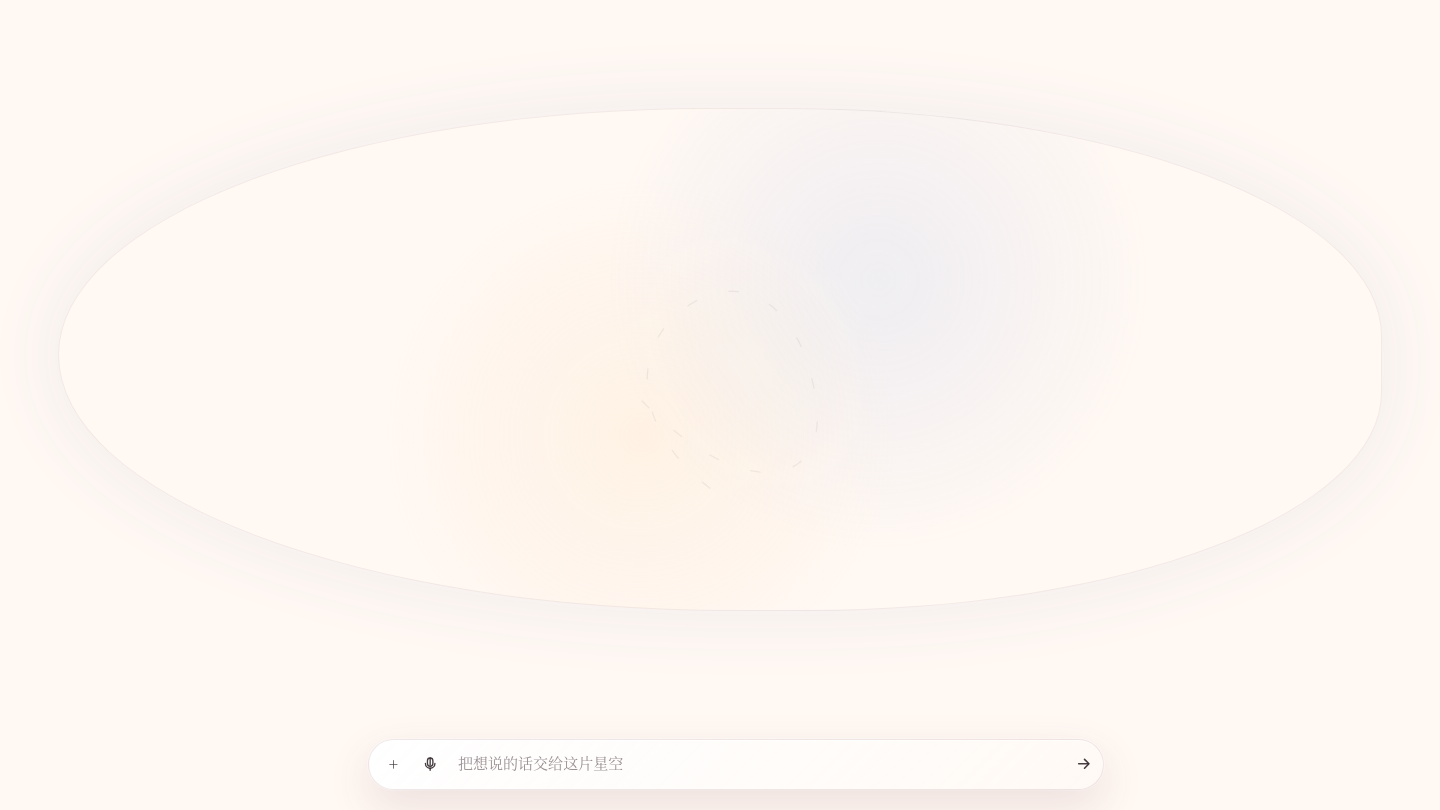
Test: StarChat › marks a tool confirmation as submitting before approval request finishes
In the text box with placeholder "把想说的话交给这片星空": (753, 764) left=456, top=747, right=1050, bottom=782, type "发布这张图"
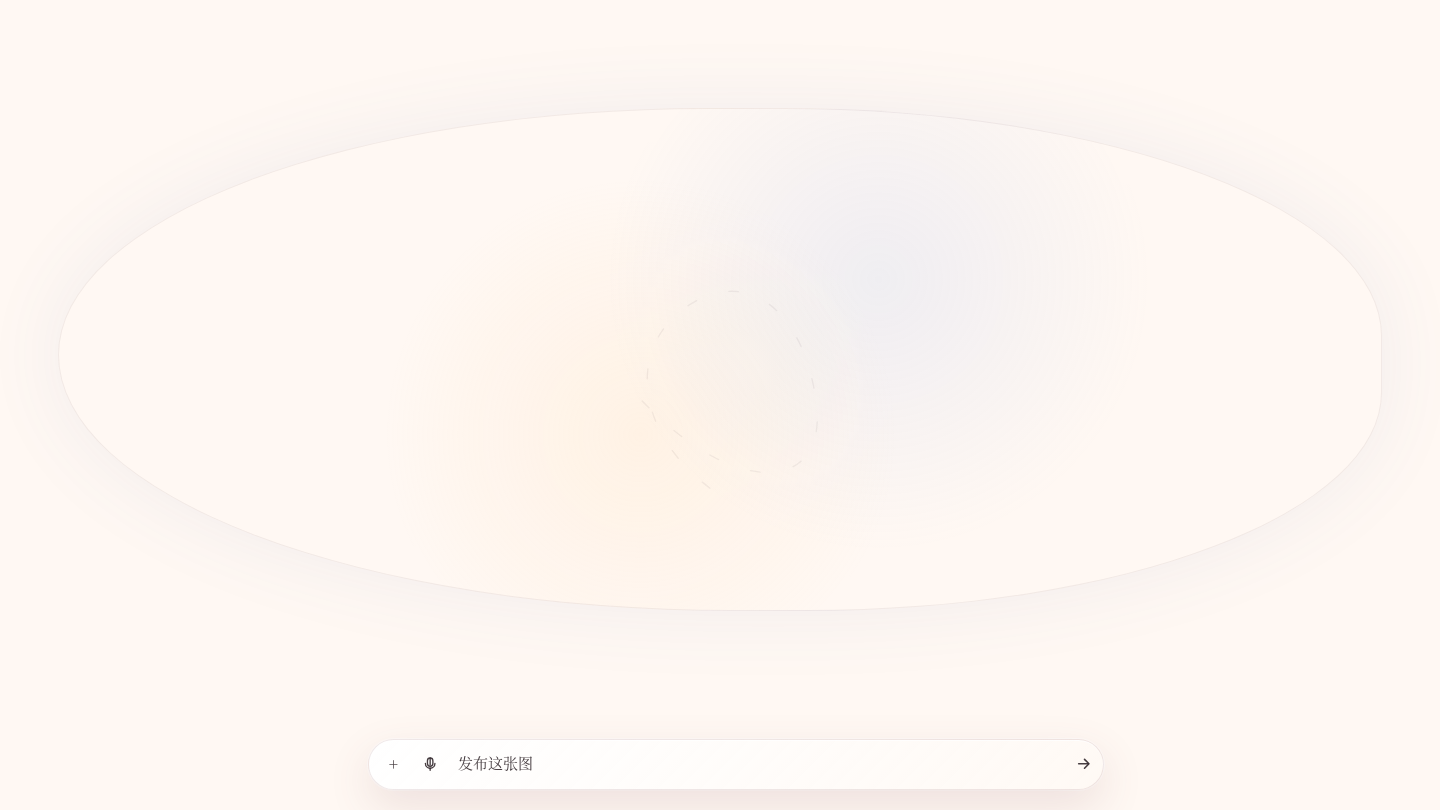
Submit the form, box left=368, top=739, right=1104, bottom=790
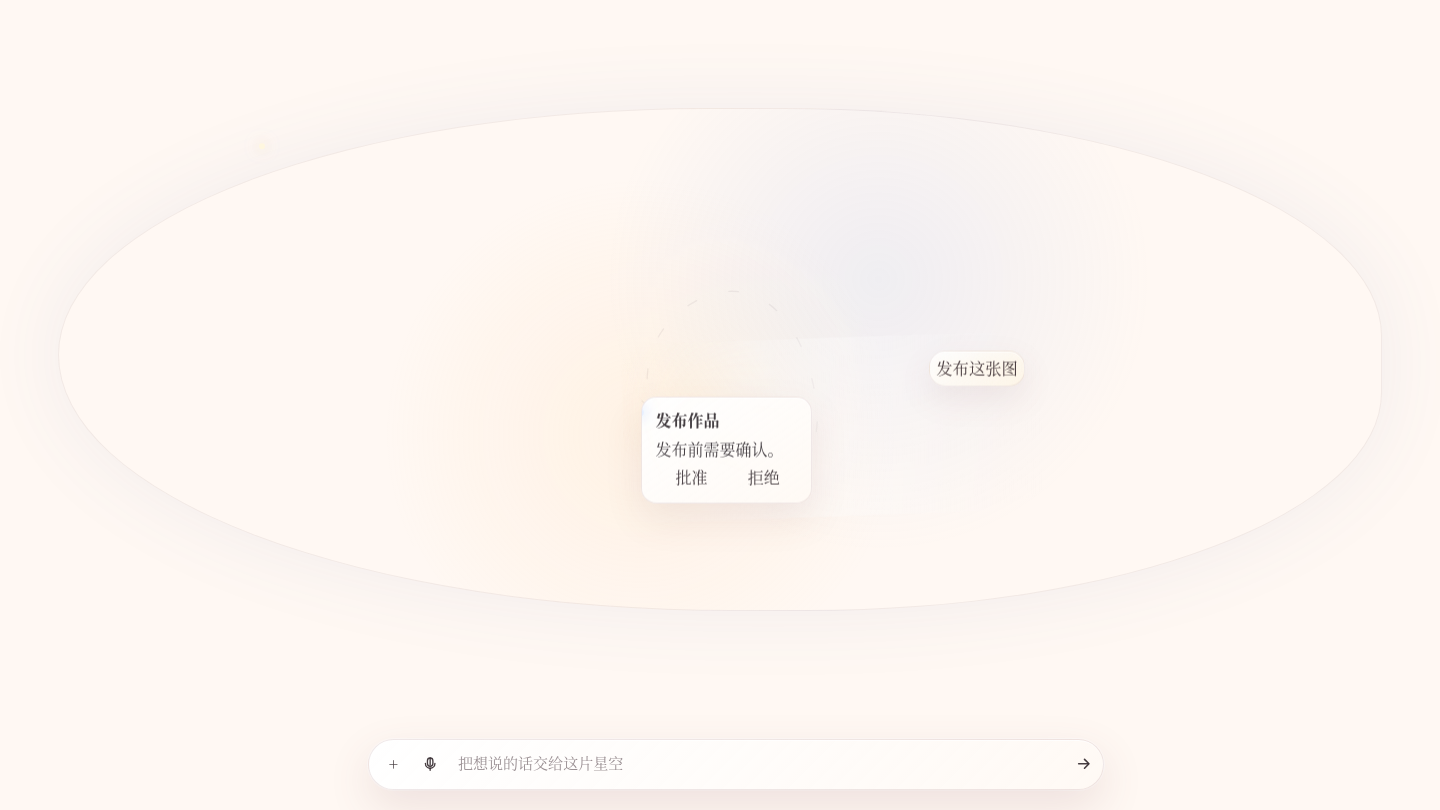
Click the button with aria-label "批准工具请求": (692, 478) left=655, top=464, right=728, bottom=492
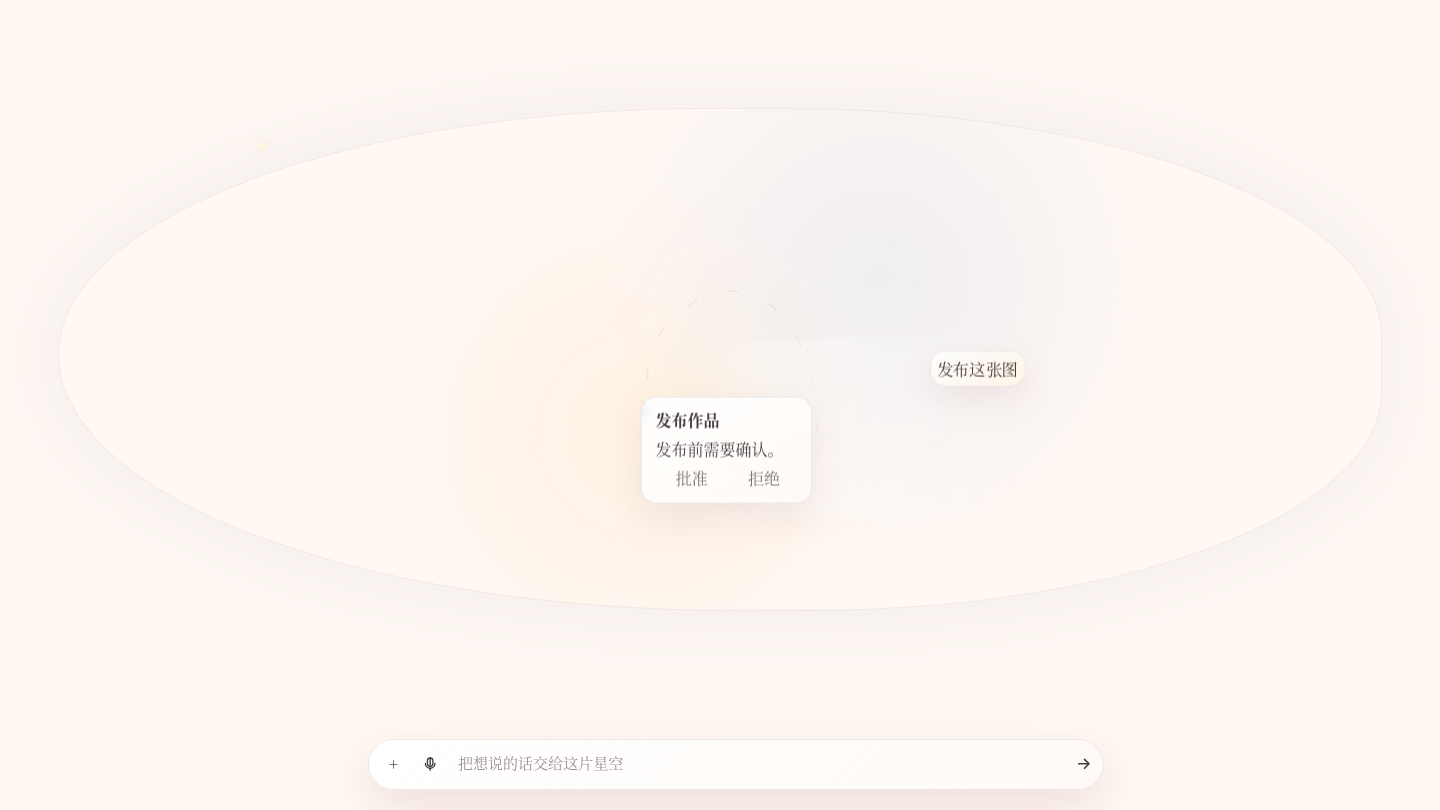
Check: the button with aria-label "批准工具请求" is disabled, box left=655, top=464, right=728, bottom=492
